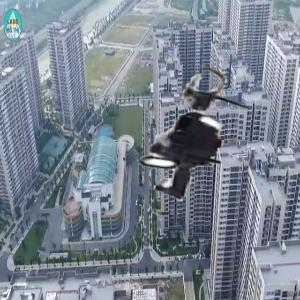drone: (93, 55, 266, 228)
